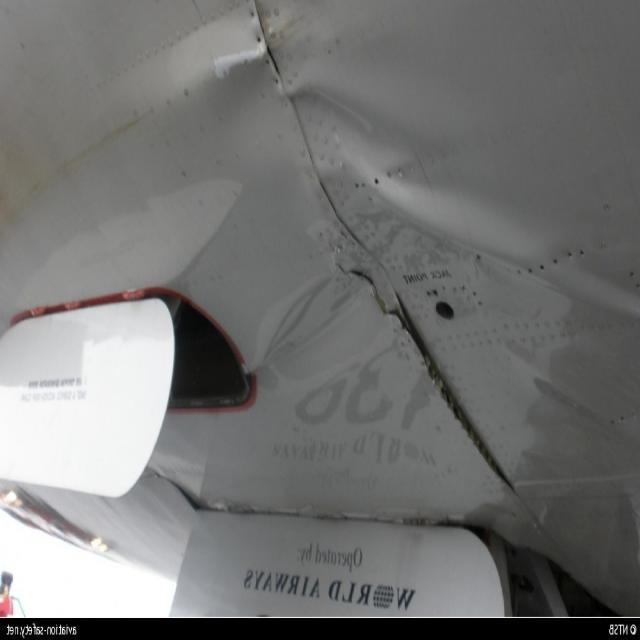crack: (335, 260, 404, 332)
dent: (292, 92, 640, 314)
